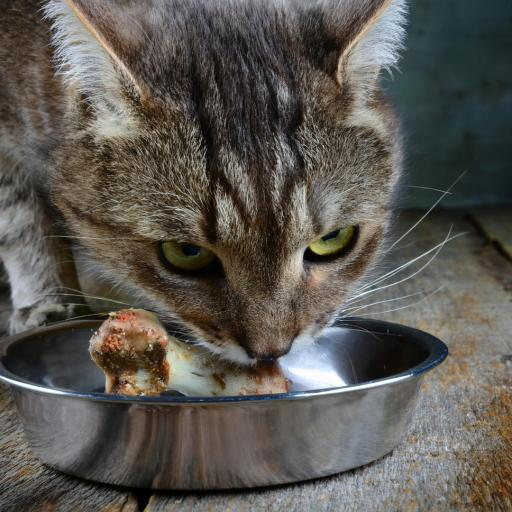cat_eating: (0, 0, 448, 491)
